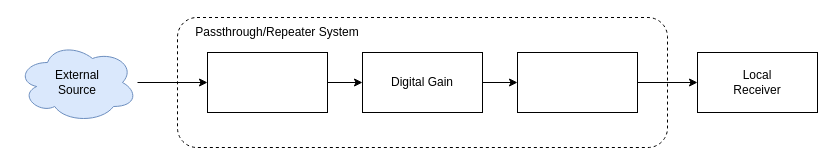
The diagram is 835 pixels wide and 165 high, and some of its shapes have lost their labels. Here are the shapes that lost their labels. From the top down, the centre of each, then its label:
At point 267,82: "LimeSDR RX".
At point 577,82: "LimeSDR TX".
